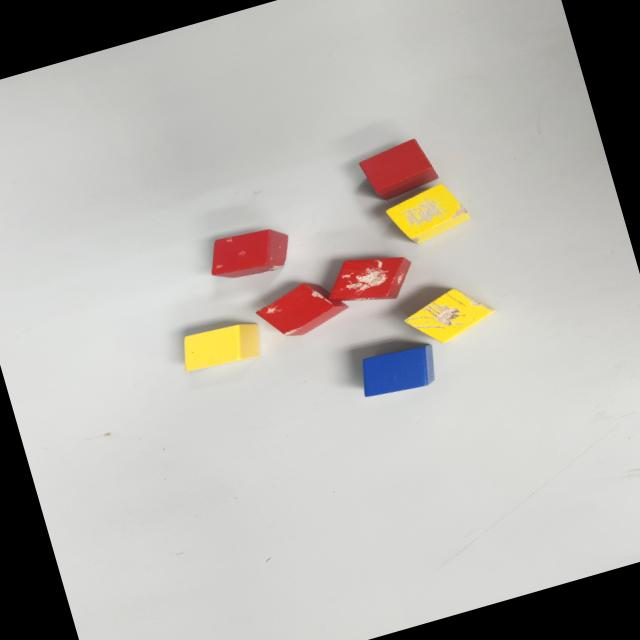blue: (352, 338, 442, 404)
broken: (398, 278, 501, 352), (320, 243, 421, 317), (250, 273, 350, 346), (382, 178, 474, 250), (203, 220, 295, 286)
red: (354, 135, 440, 205)
yellow: (177, 316, 266, 376)
